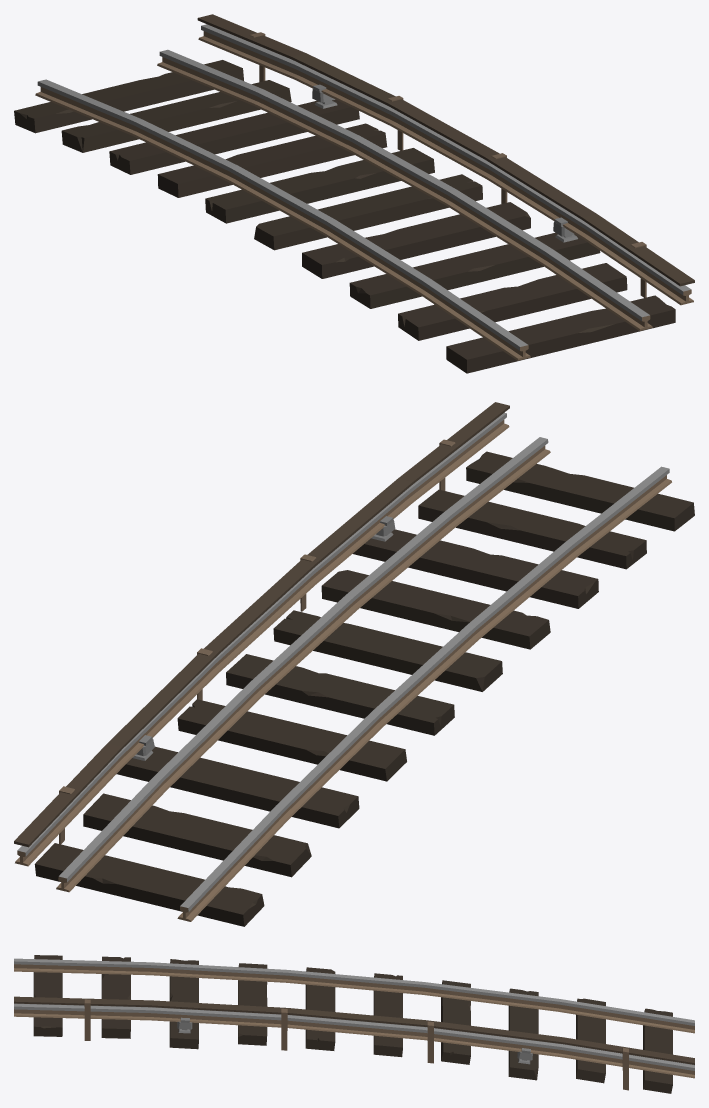
File: SW_ENV_TrackRiser_B.fbx
The picture shows the model from 3 angles, top to bottom: view 1: azimuth 30°, elevation 25°; view 2: azimuth 150°, elevation 25°; view 3: azimuth 270°, elevation 25°; orthographic projection. The views are drawn at different scales.
Visible parts, largest first — view 1: SW_ENV_TrackRiser_B; view 2: SW_ENV_TrackRiser_B; view 3: SW_ENV_TrackRiser_B.
Part boxes in pixels (x1=…): SW_ENV_TrackRiser_B: x1=14, y1=14, x2=694, y2=373; SW_ENV_TrackRiser_B: x1=14, y1=402, x2=694, y2=926; SW_ENV_TrackRiser_B: x1=14, y1=955, x2=694, y2=1093.
Bounding box in the file's own units: 275 × 152 × 1000.
